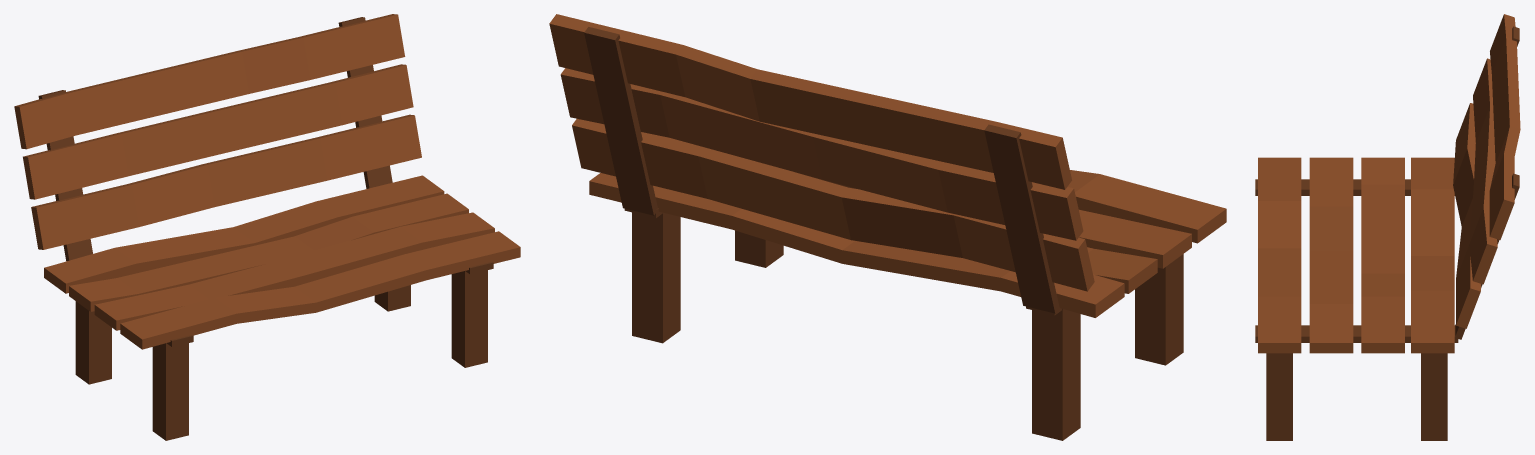
The model's file is bench.fbx.
The picture shows the model from 3 angles, left to right: view 1: azimuth 30°, elevation 25°; view 2: azimuth 150°, elevation 25°; view 3: azimuth 270°, elevation 25°; orthographic projection. The views are drawn at different scales.
Visible parts, largest first — view 1: Cube.007, Cube.004, Cube, Cube.001, Cube.002, Cube.009, Cube.003; view 2: Cube.007, Cube.004, Cube.009, Cube.002, Cube.003, Cube, Cube.001; view 3: Cube.004, Cube.007, Cube.001, Cube.003, Cube.006, Cube.005, Cube.009.
Boxes of the visible parts, x1,y1,x2,y2 form: Cube.007: (14,14,421,249); Cube.004: (44,175,520,349); Cube: (152,343,188,440); Cube.001: (451,270,487,367); Cube.002: (75,301,111,384); Cube.009: (38,17,392,261); Cube.003: (374,285,410,311); Cube.007: (549,14,1094,291); Cube.004: (589,170,1226,317); Cube.009: (584,27,1059,313); Cube.002: (1032,309,1080,440); Cube.003: (632,212,680,343); Cube: (1135,254,1183,365); Cube.001: (735,230,783,267); Cube.004: (1258,157,1454,353); Cube.007: (1453,14,1520,328); Cube.001: (1266,353,1292,440); Cube.003: (1421,353,1447,440); Cube.006: (1255,325,1458,342); Cube.005: (1255,179,1454,195); Cube.009: (1455,26,1519,339).
Bounding box in the file's own units: 469 × 302 × 283.
